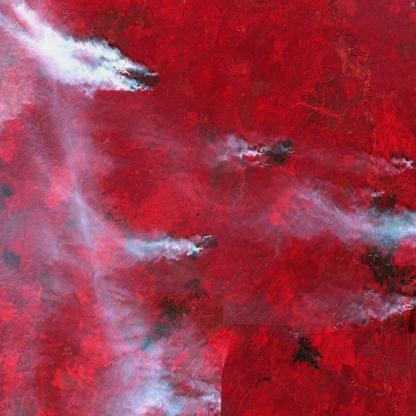fire: (184, 220, 226, 260), (119, 56, 160, 94), (252, 138, 276, 170), (401, 157, 416, 173), (406, 296, 416, 319)
